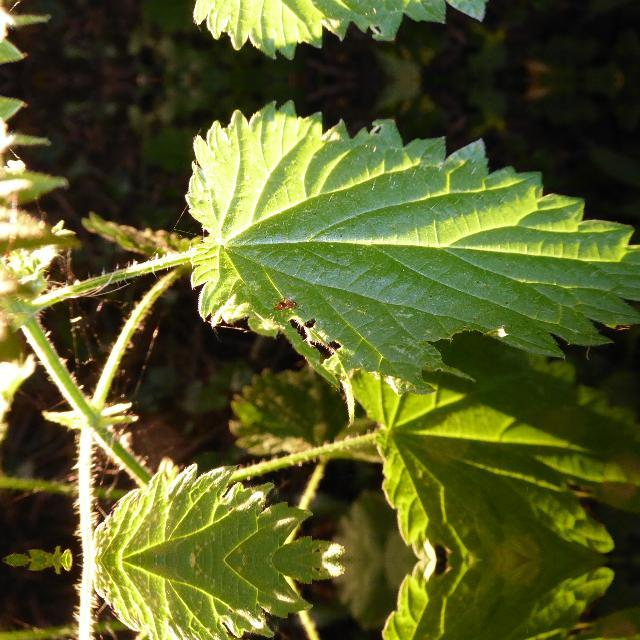Myrmica: (270, 294, 302, 312)
